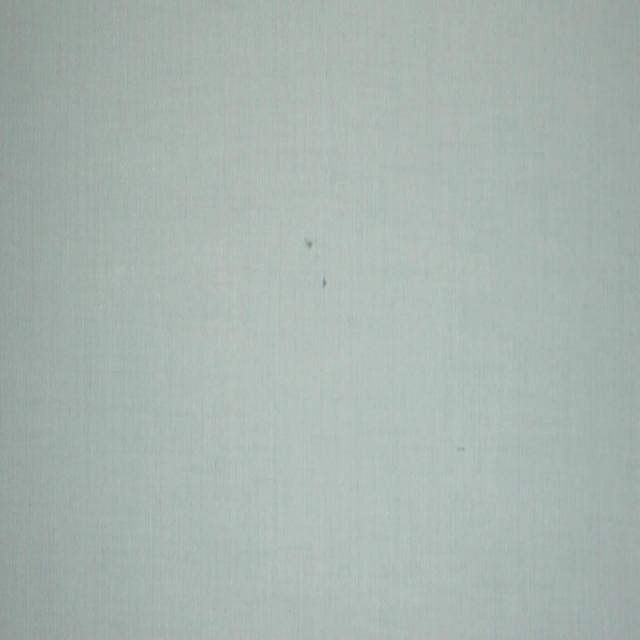dirty: (306, 237, 314, 251), (322, 276, 328, 289)
